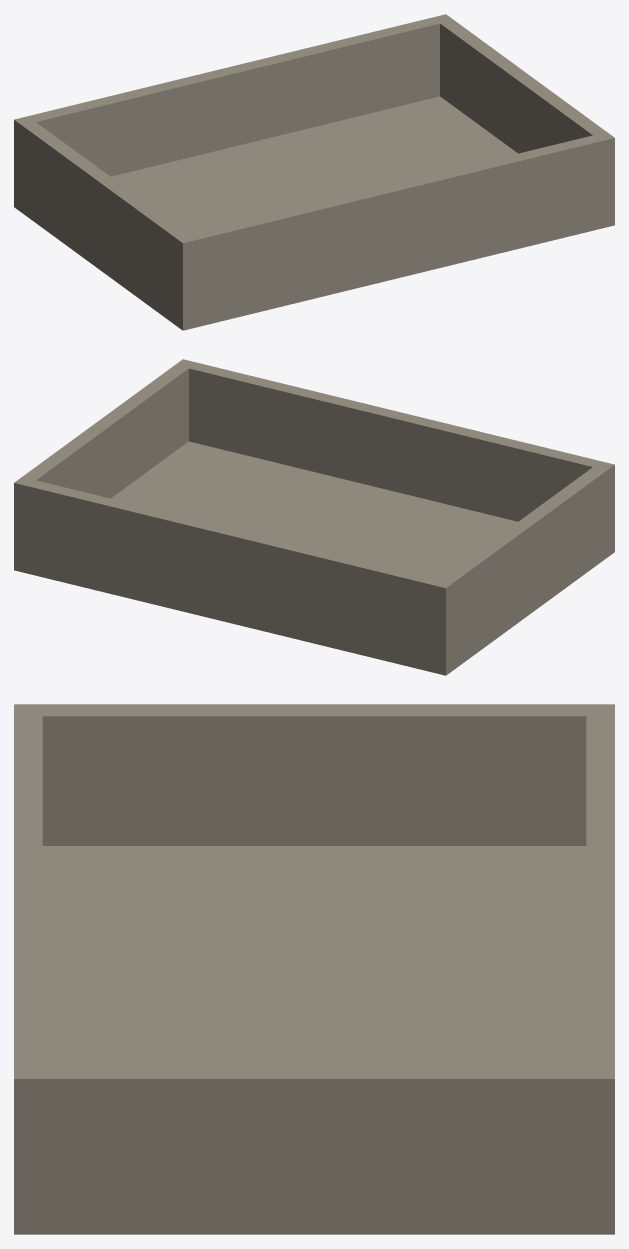
Rendered from rec_6x4.fbx.
3 views of the same model, one above another, from view 1: azimuth 30°, elevation 25°; view 2: azimuth 150°, elevation 25°; view 3: azimuth 270°, elevation 25° (orthographic). The views are drawn at different scales.
Parts seen in each view (by area): view 1: geo_rec_01; view 2: geo_rec_01; view 3: geo_rec_01.
Part boxes in pixels (x1,y1,x2,y2): geo_rec_01: (14, 14, 614, 330); geo_rec_01: (14, 359, 614, 675); geo_rec_01: (14, 704, 614, 1234).
Bounding box in the file's own units: 620 × 120 × 420.
